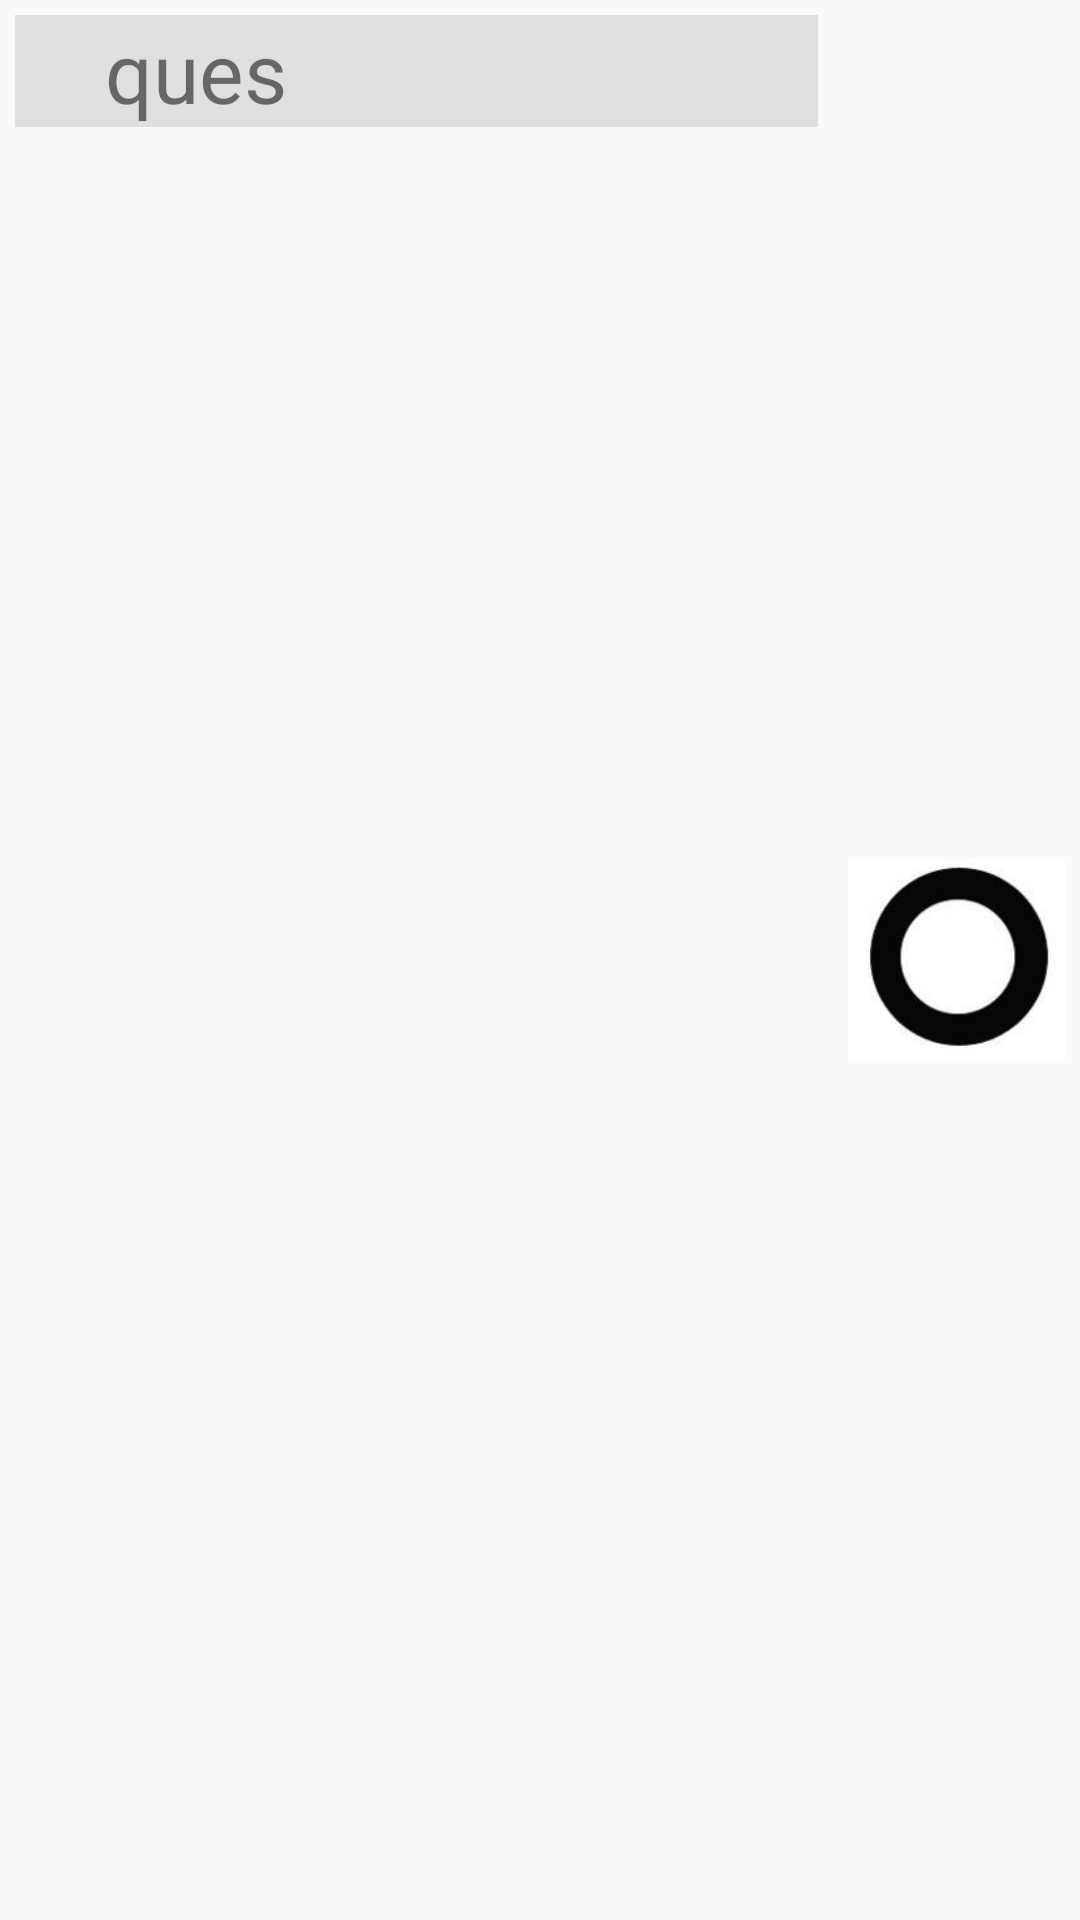

Point at icon controls on the screen. Image size 1080×1920, points as (x,y).
correct: (959,956)
